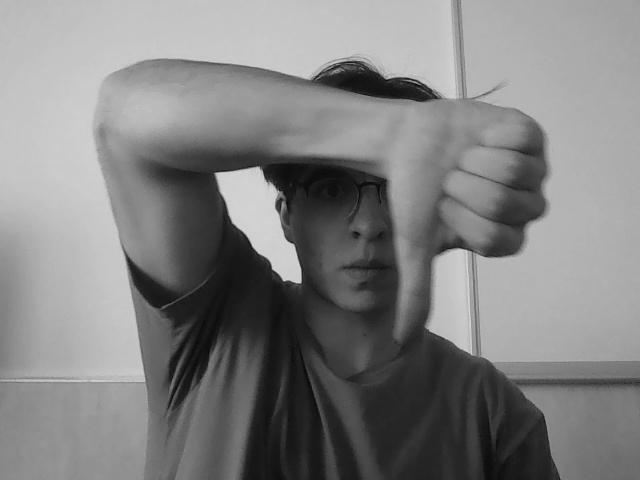bad: (382, 96, 576, 328)
